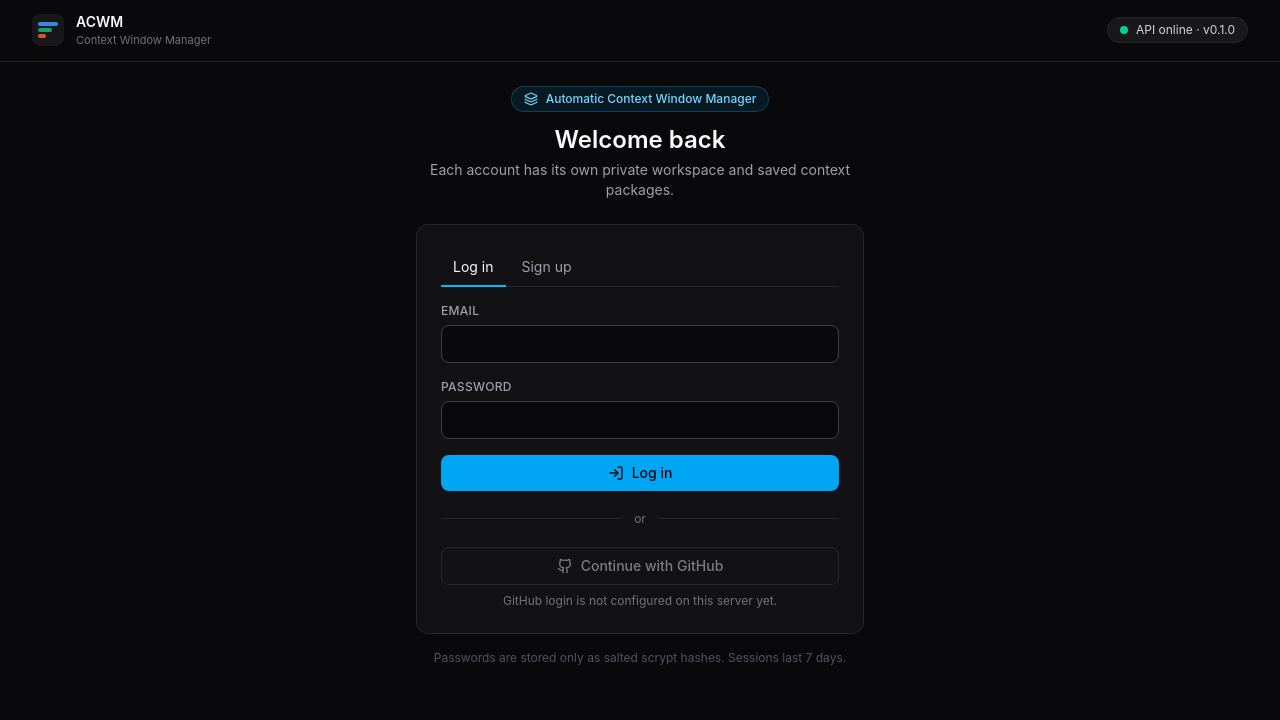
Scenario: App › shows a clear error for a wrong password
Expected: the heading "Welcome back" is shown, left=555, top=124, right=725, bottom=154
Type "nobody@example.com" into the field labelled "Email" at (640, 344), box left=441, top=324, right=839, bottom=362
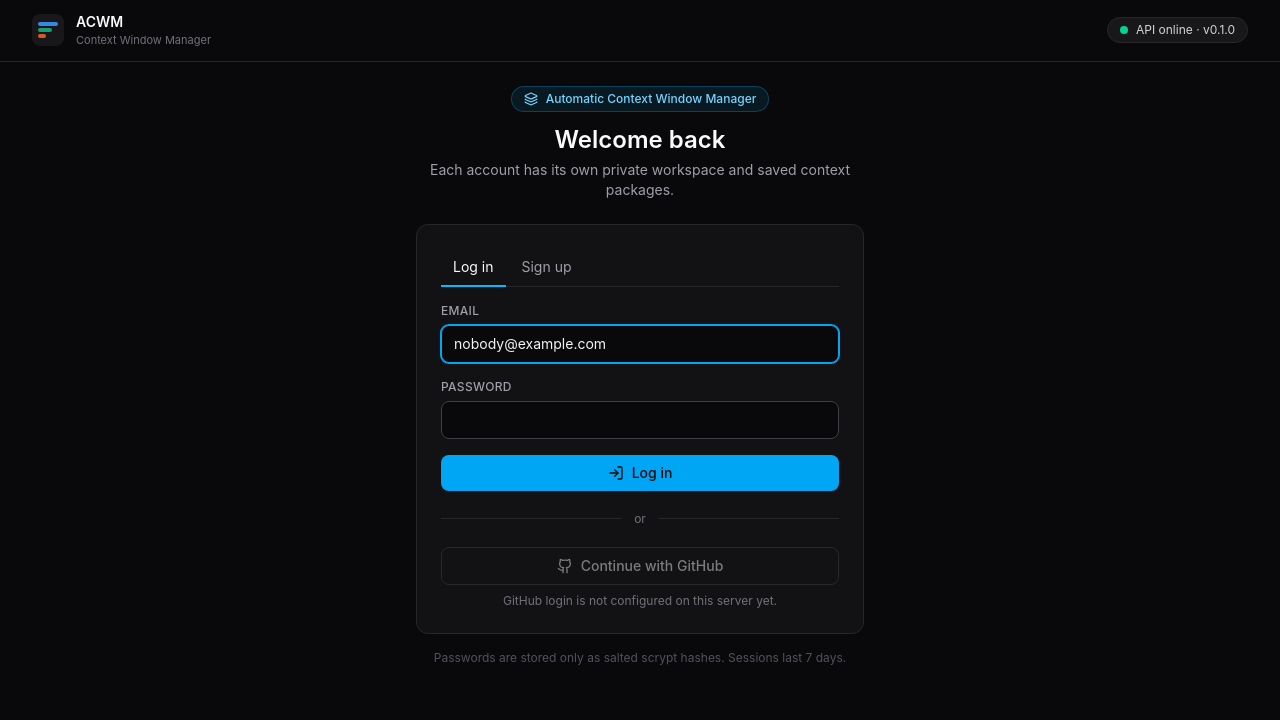
Type "wrong-password" into the password field labelled "Password" at (640, 420), box left=441, top=400, right=839, bottom=438
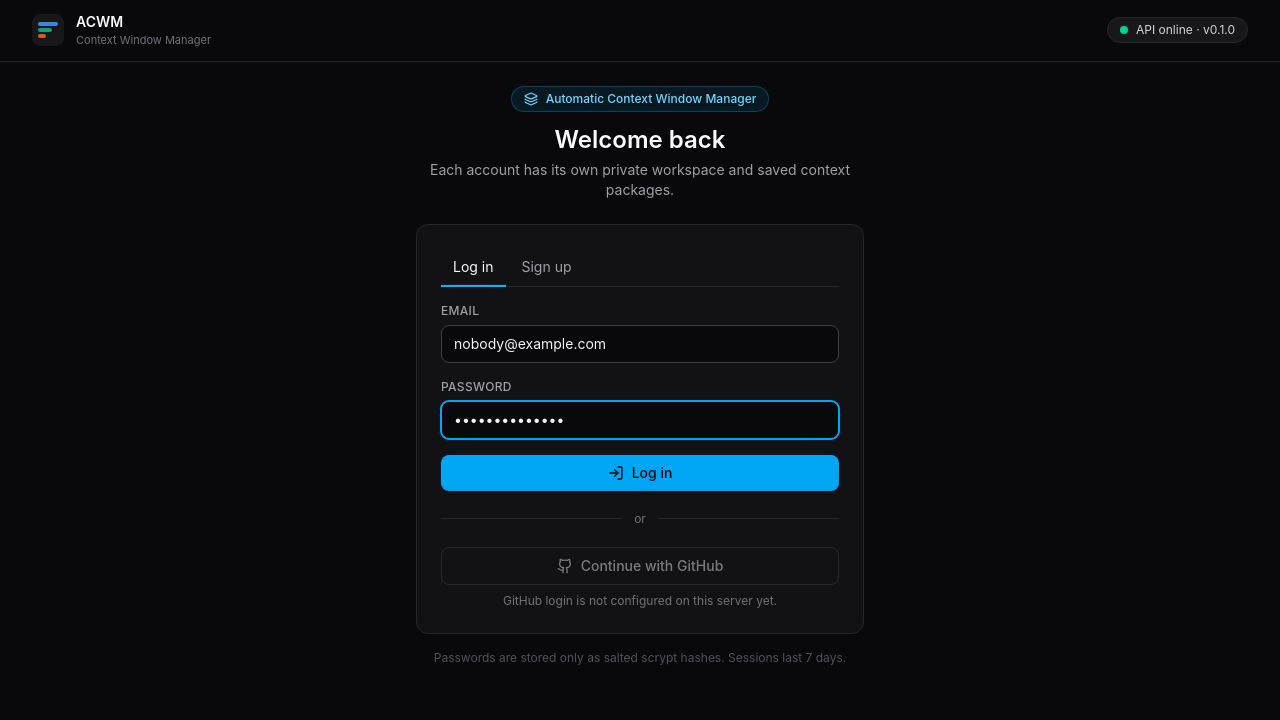
Click the button "Log in" at (640, 472), box left=441, top=454, right=839, bottom=490
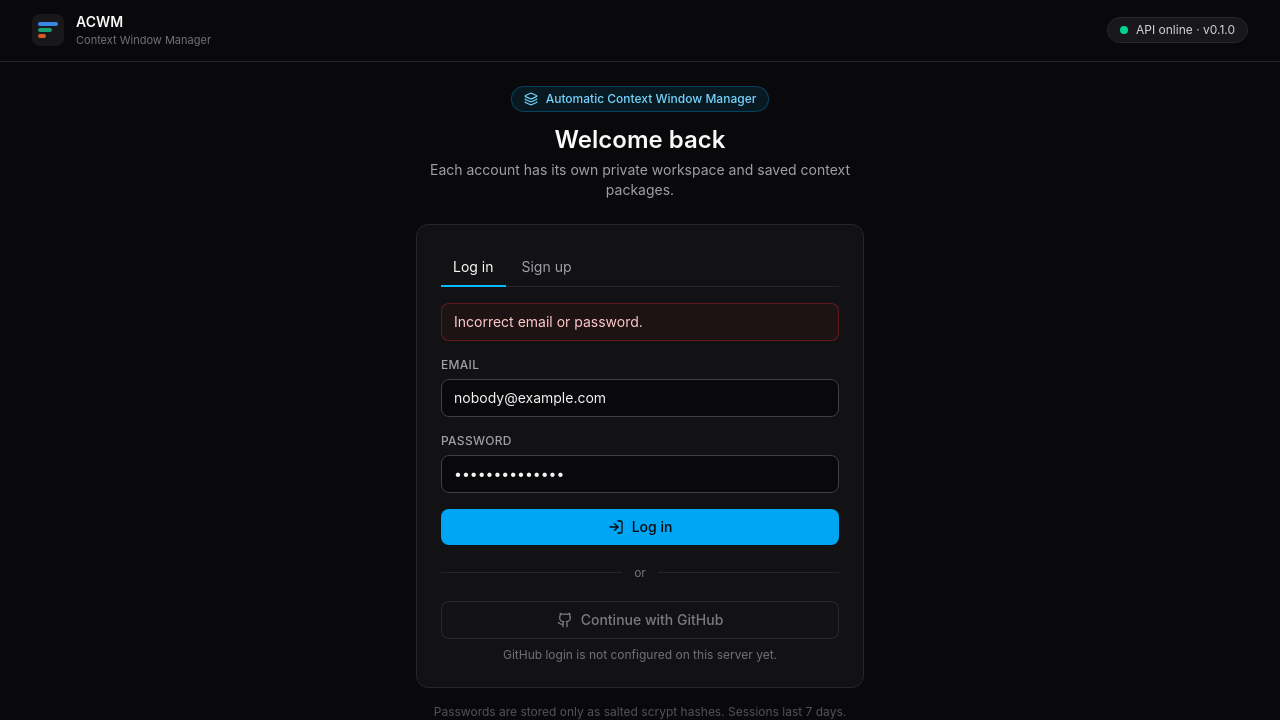
Result: the message reads "Incorrect email or password." at left=454, top=312, right=643, bottom=330
